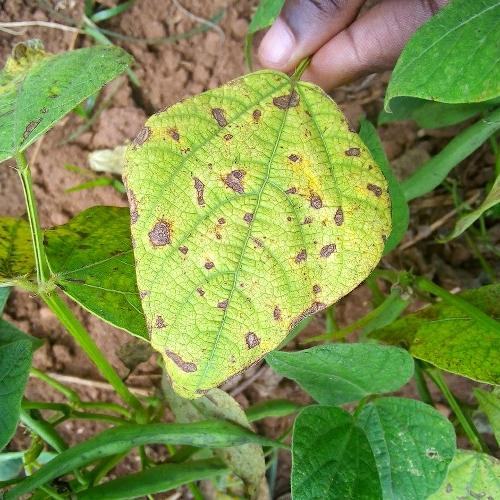hawar: (134, 75, 365, 352)
